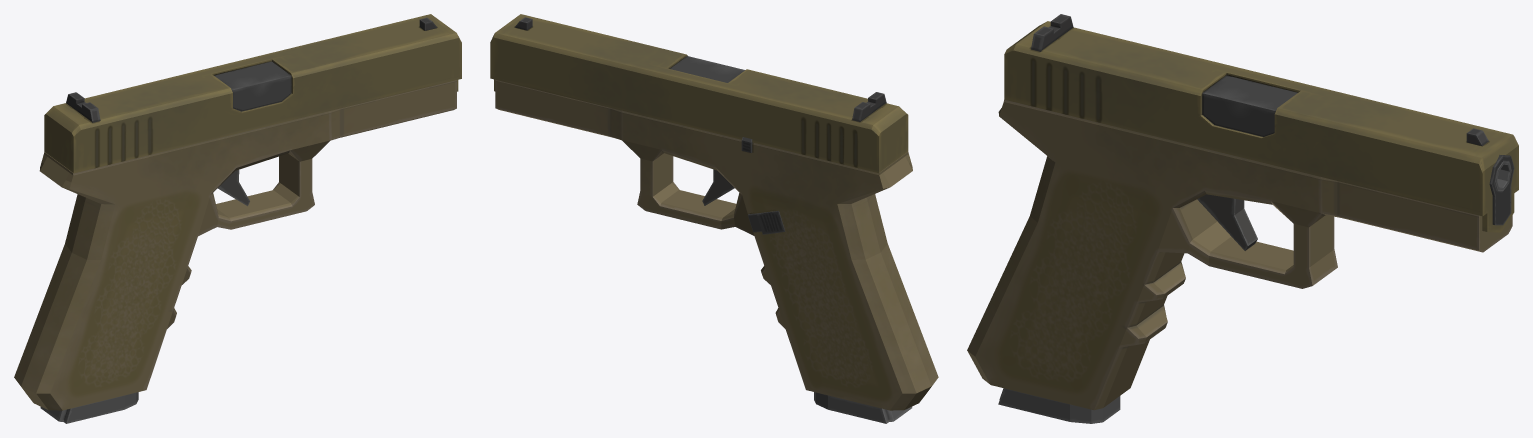
Rendered from pistol_g17_low_poly.glb.
3 renders of one model, left to right at view 1: azimuth 30°, elevation 25°; view 2: azimuth 150°, elevation 25°; view 3: azimuth 330°, elevation 25°, orthographic. The views are drawn at different scales.
Parts seen in each view (by area): view 1: Object_2; view 2: Object_2; view 3: Object_2.
Boxes of the visible parts, bbox=[...] form: Object_2: bbox=[14, 14, 461, 423]; Object_2: bbox=[490, 14, 938, 423]; Object_2: bbox=[967, 14, 1518, 423].
Bounding box in the file's own units: 8.73 × 5.95 × 1.08.
1 material, 1 textured.
